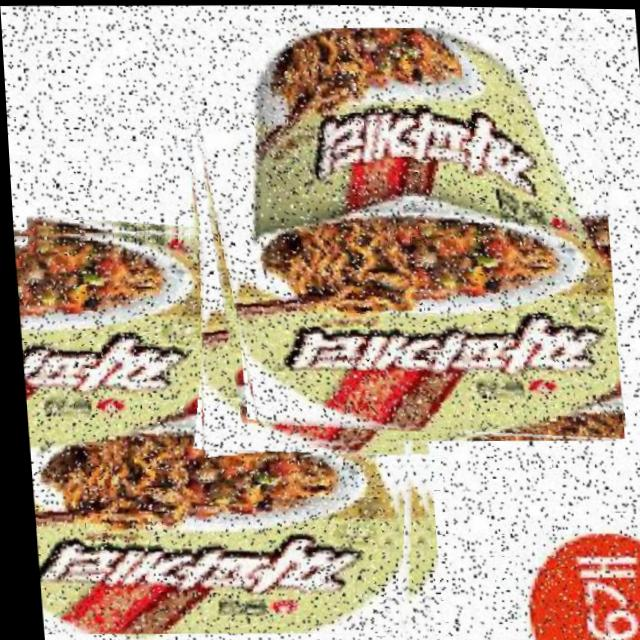Miscellaneous: (176, 21, 618, 448), (9, 213, 442, 638)
